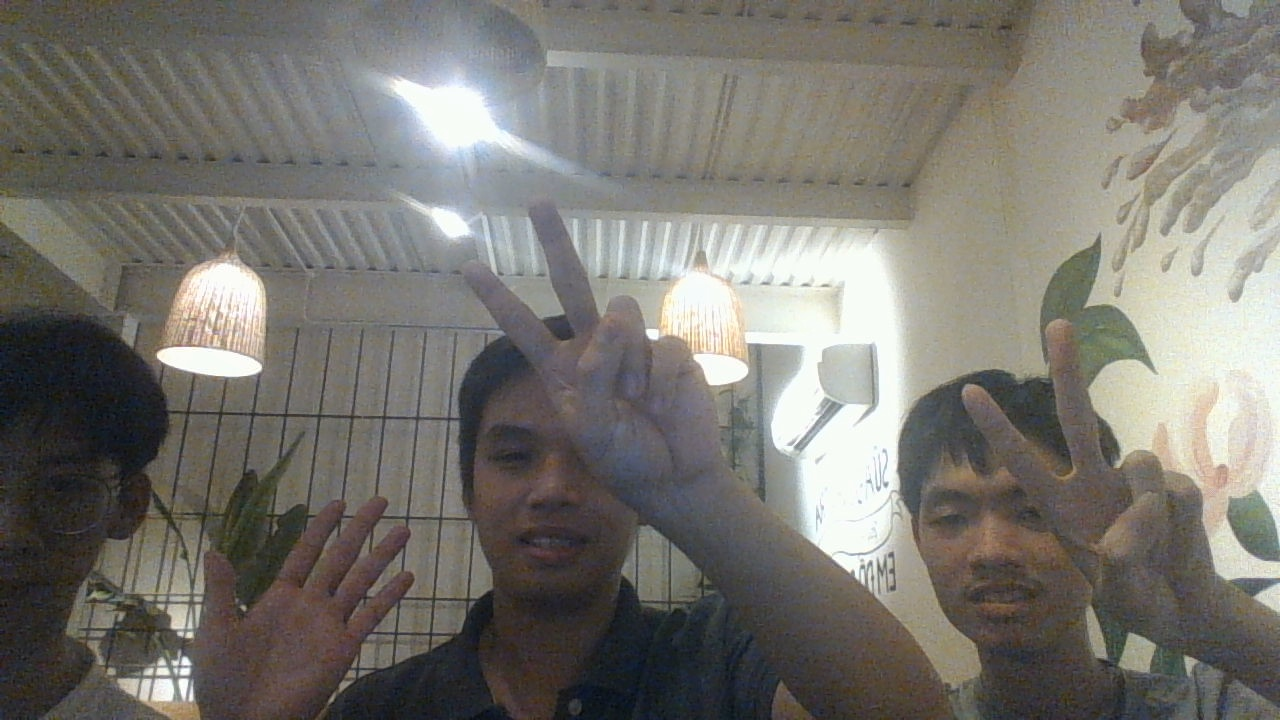check: (190, 494, 421, 714)
wait: (959, 314, 1217, 644), (459, 198, 725, 512)
